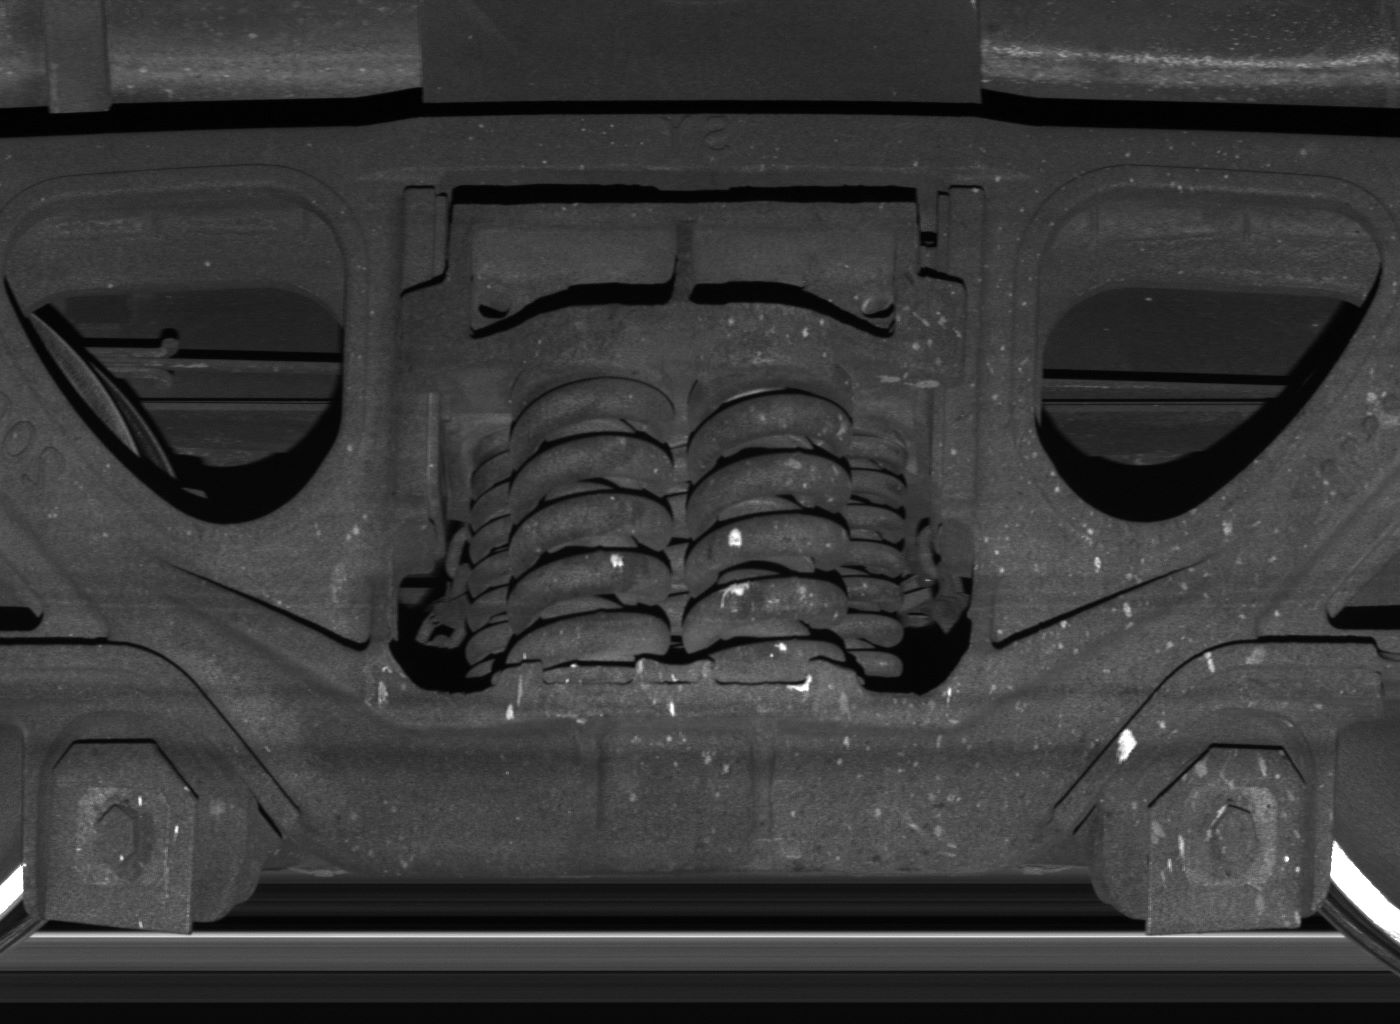normal: (1105, 707, 1332, 938), (23, 710, 243, 932)
